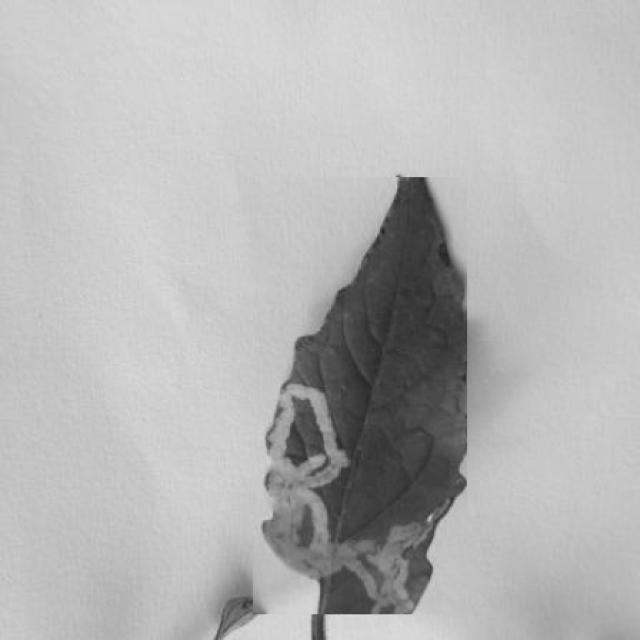Leaf Miner: (253, 177, 468, 614)
